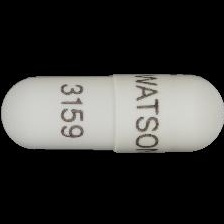54868-5033: (0, 0, 224, 224)
